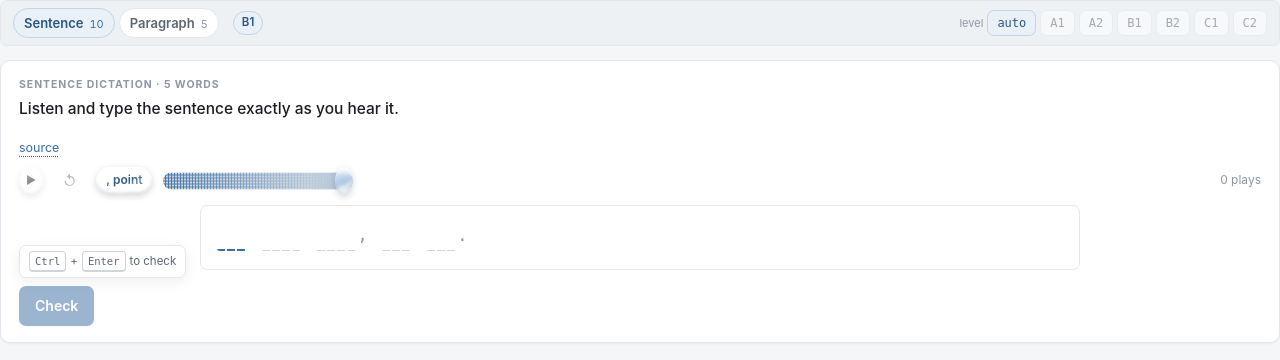
it: DictationPage word fields › leaves Check disabled until something is written
Check: the button "Check" is disabled, box [19,286,94,326]
Step 1. Press L in the 1st field with class "dict-word", box [217,224,248,252]
Step 2. Type "L" into the 1st field with class "dict-word" → (232, 238), box [217,224,248,252]
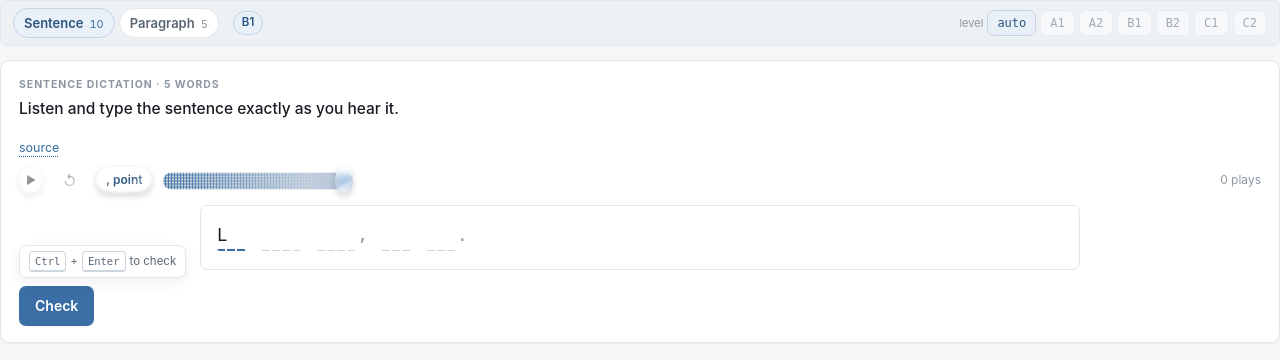
Check: the button "Check" is enabled, box [19,286,94,326]
